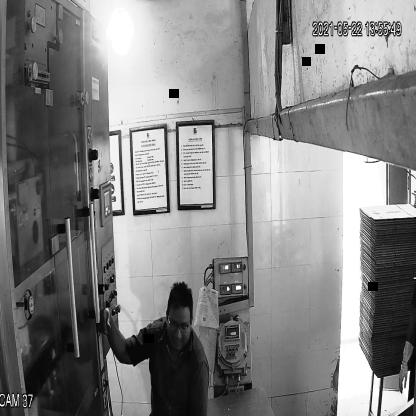goggles: (165, 311, 193, 336)
